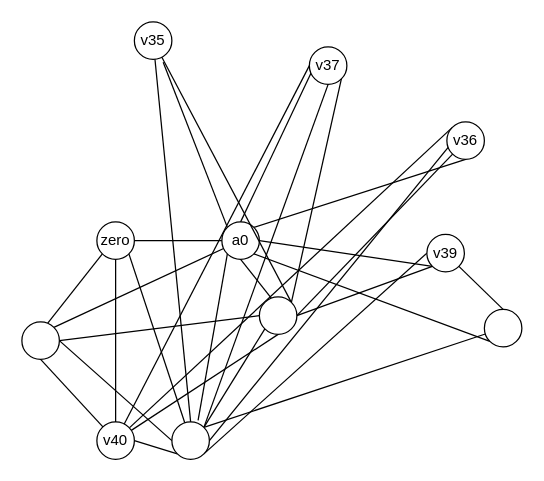
The diagram is 544 pixels wide and 481 high, and some of its shapes have lost their labels. The centre of each missing label's shape, as x and y in pixels:
"v32" belongs at pixel 40 340.
"v33" belongs at pixel 190 440.
"v34" belongs at pixel 277 315.
"v38" belongs at pixel 502 327.
